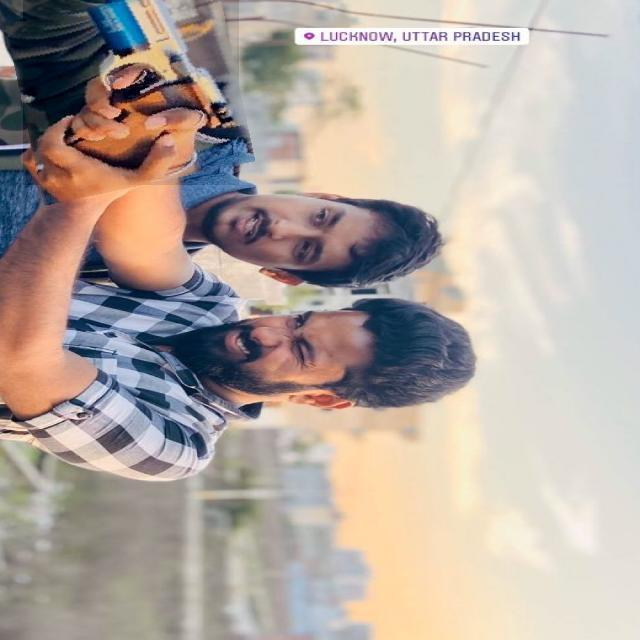handgun: (14, 0, 247, 195)
